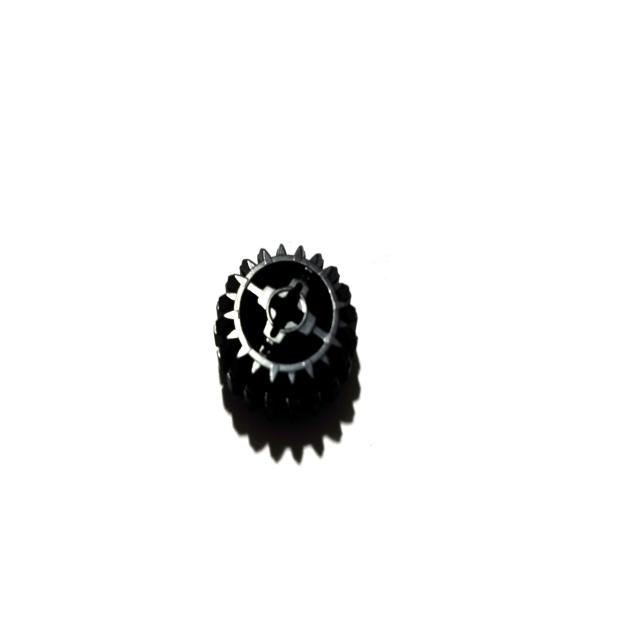Black_Small: (212, 248, 362, 466)
